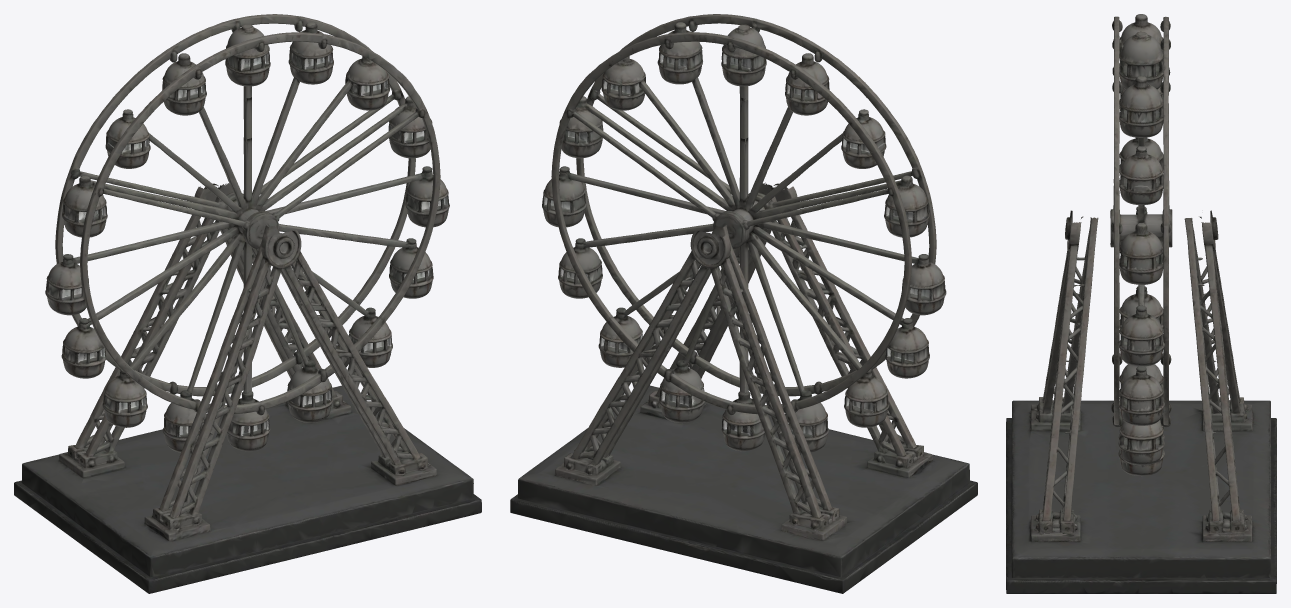
The model's file is ferris-wheel-tripo.v1.glb.
The picture shows the model from 3 angles, left to right: view 1: azimuth 30°, elevation 25°; view 2: azimuth 150°, elevation 25°; view 3: azimuth 270°, elevation 25°; orthographic projection.
Parts seen in each view (by area): view 1: FerrisWheelTrophy; view 2: FerrisWheelTrophy; view 3: FerrisWheelTrophy.
Part boxes in pixels (x1,y1,x2,y2): FerrisWheelTrophy: (14, 14, 481, 593); FerrisWheelTrophy: (510, 14, 977, 593); FerrisWheelTrophy: (1006, 14, 1276, 593).
Bounding box in the file's own units: 0.8713 × 1 × 0.5125.
1 material, 1 textured.
